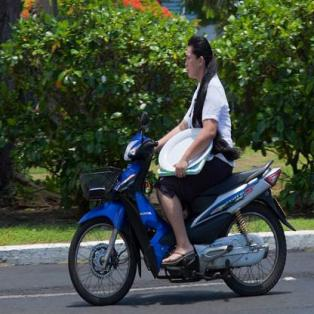Motocicleta: (66, 124, 290, 300)
